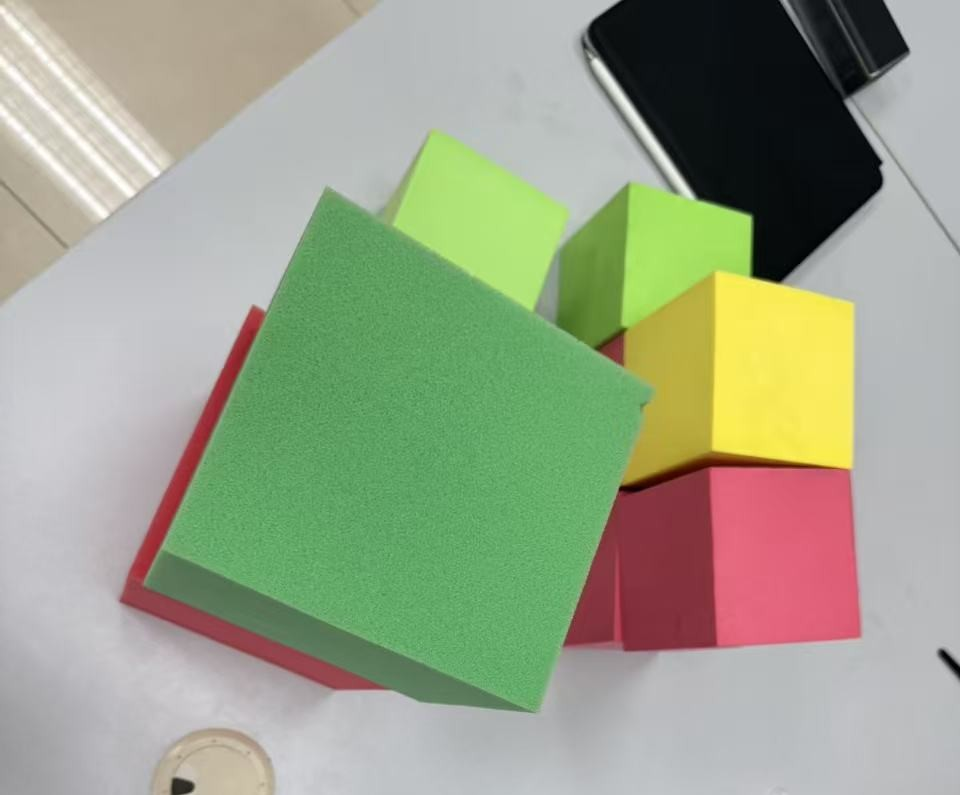green_large: (144, 185, 656, 711)
green_small: (559, 183, 749, 353), (393, 130, 564, 317)
red_small: (612, 466, 863, 652)
